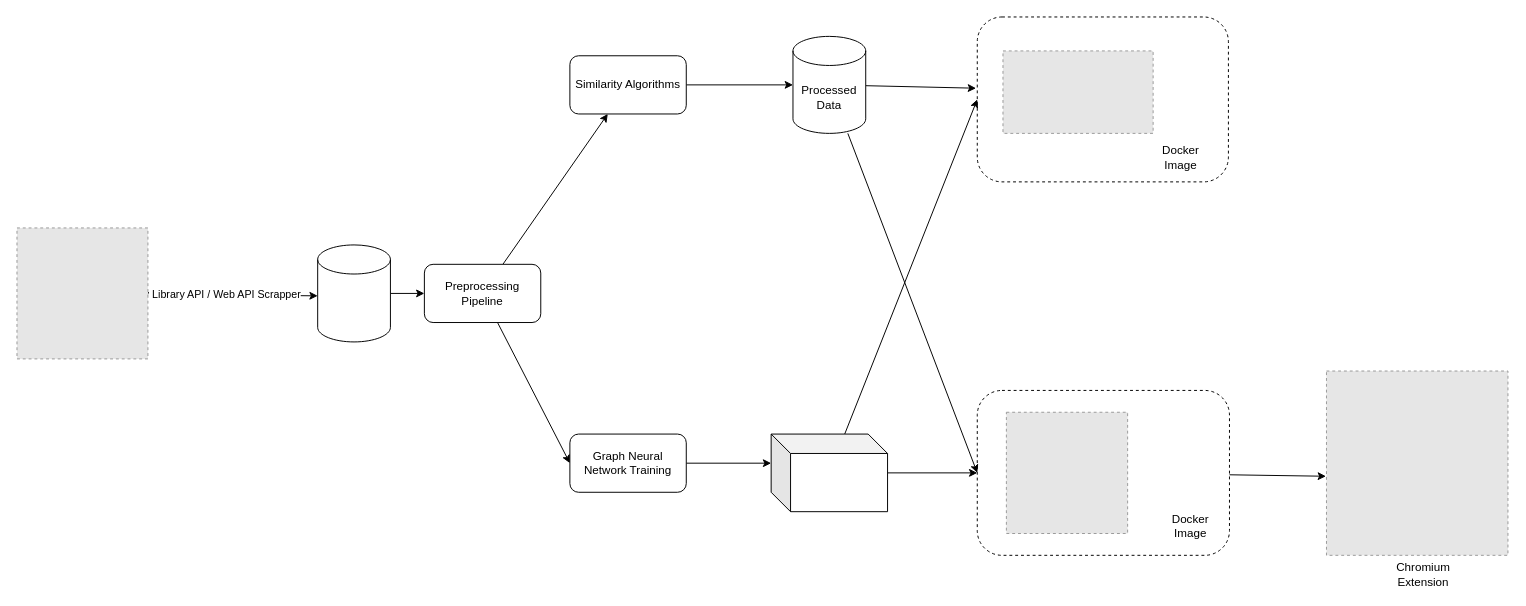
Some shapes in this 1526 by 606 pixel diagram are drawn without their labels. Grey dashed boxes stand in for pictures. The shapes that lost their labels are listed below. From the top down, each one's centre as x and y in pixels, then its label:
At point (353, 293): "Raw Data".
At point (829, 472): "Trained GNN Model".
